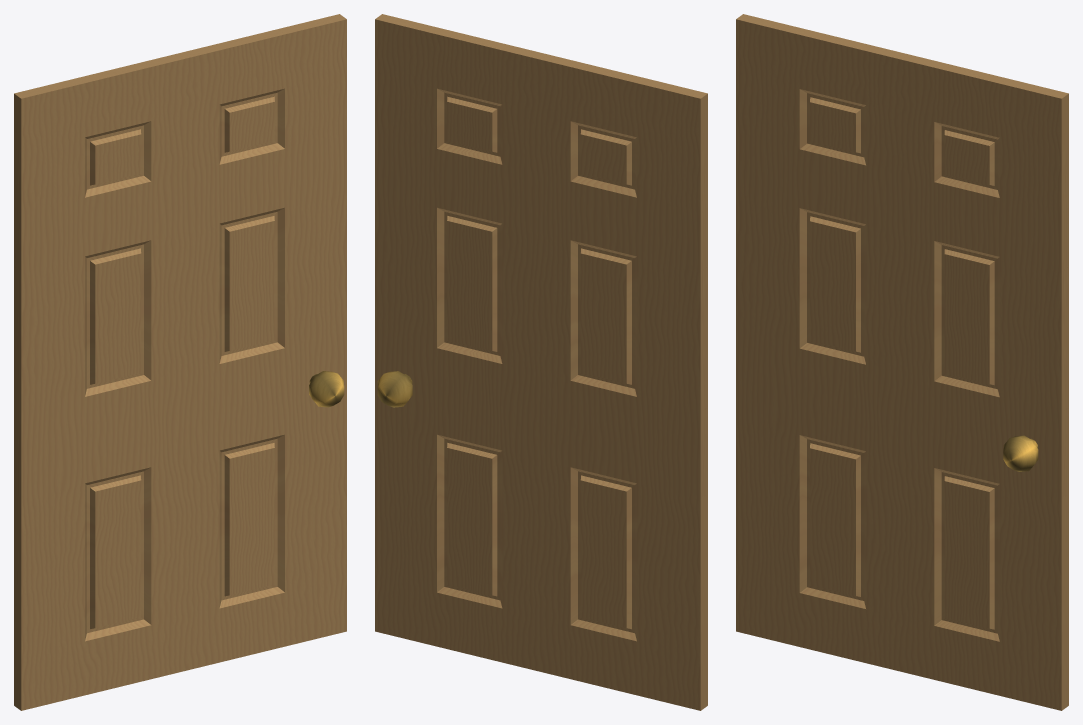
Rendered from Door_D.FBX.
The picture shows the model from 3 angles, left to right: view 1: azimuth 30°, elevation 25°; view 2: azimuth 150°, elevation 25°; view 3: azimuth 330°, elevation 25°; orthographic projection.
Parts seen in each view (by area): view 1: Door_A; view 2: Door_A; view 3: Door_A.
Boxes of the visible parts, <box> form: Door_A: <box>14,14,346,710</box>; Door_A: <box>375,14,707,710</box>; Door_A: <box>736,14,1068,710</box>.
Size of the model in its own units: 207 by 372 by 50.77.
